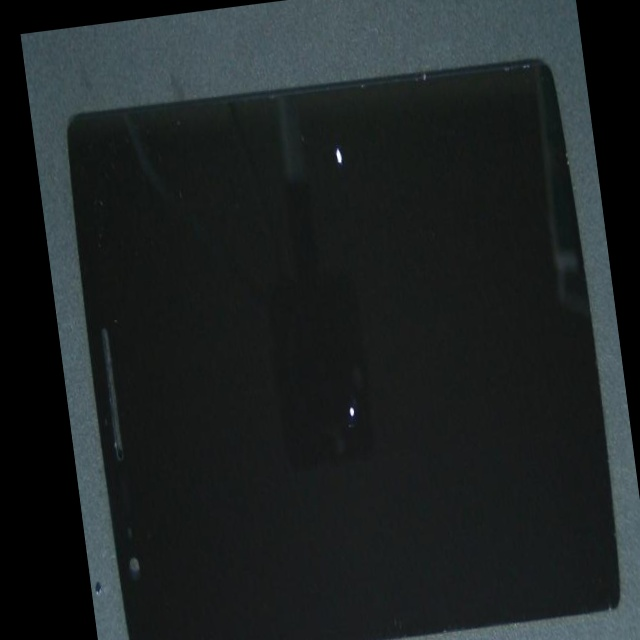stain: (190, 138, 502, 597), (175, 0, 482, 229)
